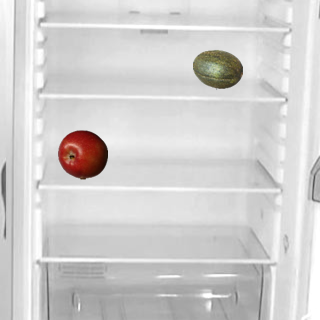Apple Braeburn: (57, 129, 107, 179)
Melon Piel de Sapo: (192, 44, 242, 94)
